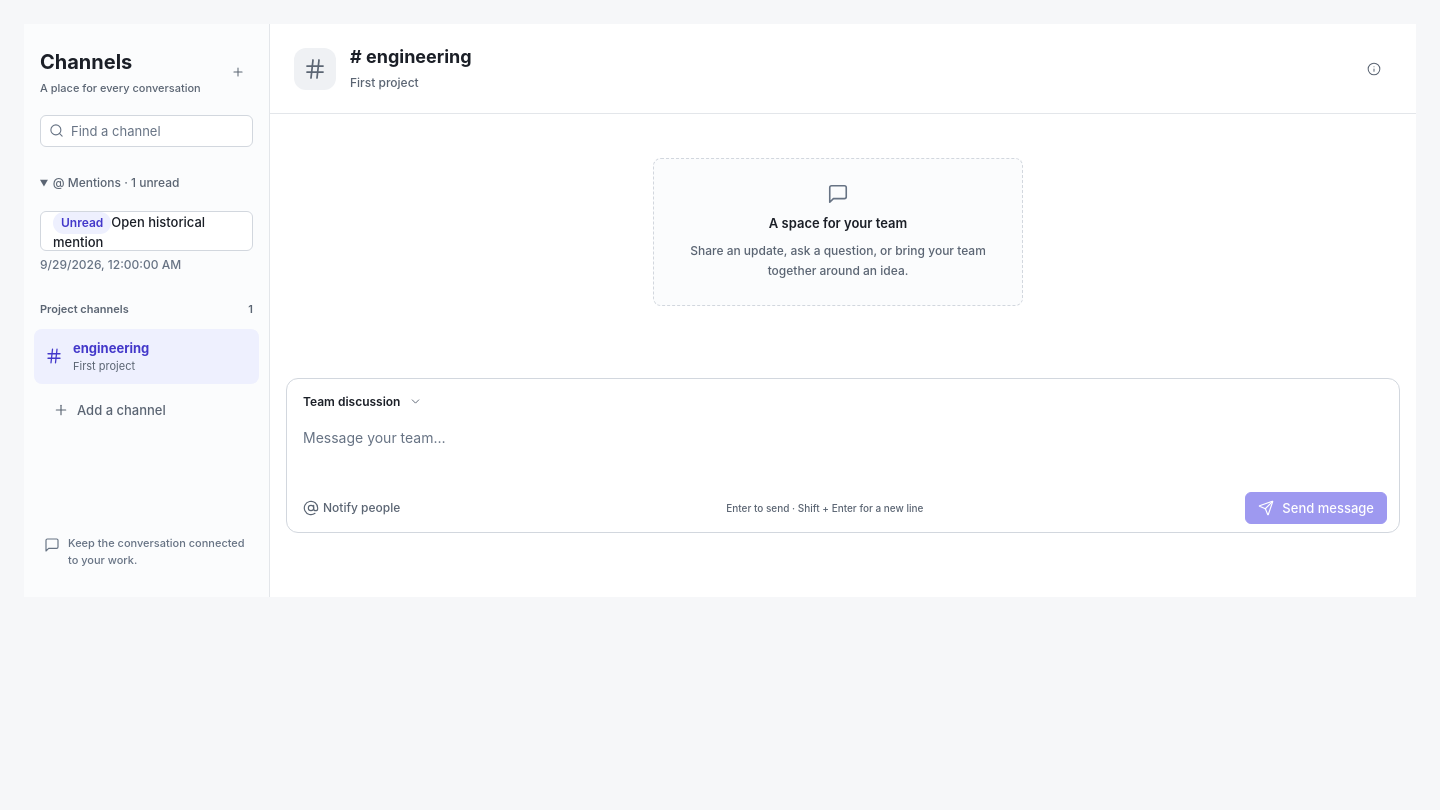
Test: notification history › does not consume a notification when its exact message belongs to another thread
Click the button "Unread Open historical mention".
click(146, 230)  # box [40,210,253,250]
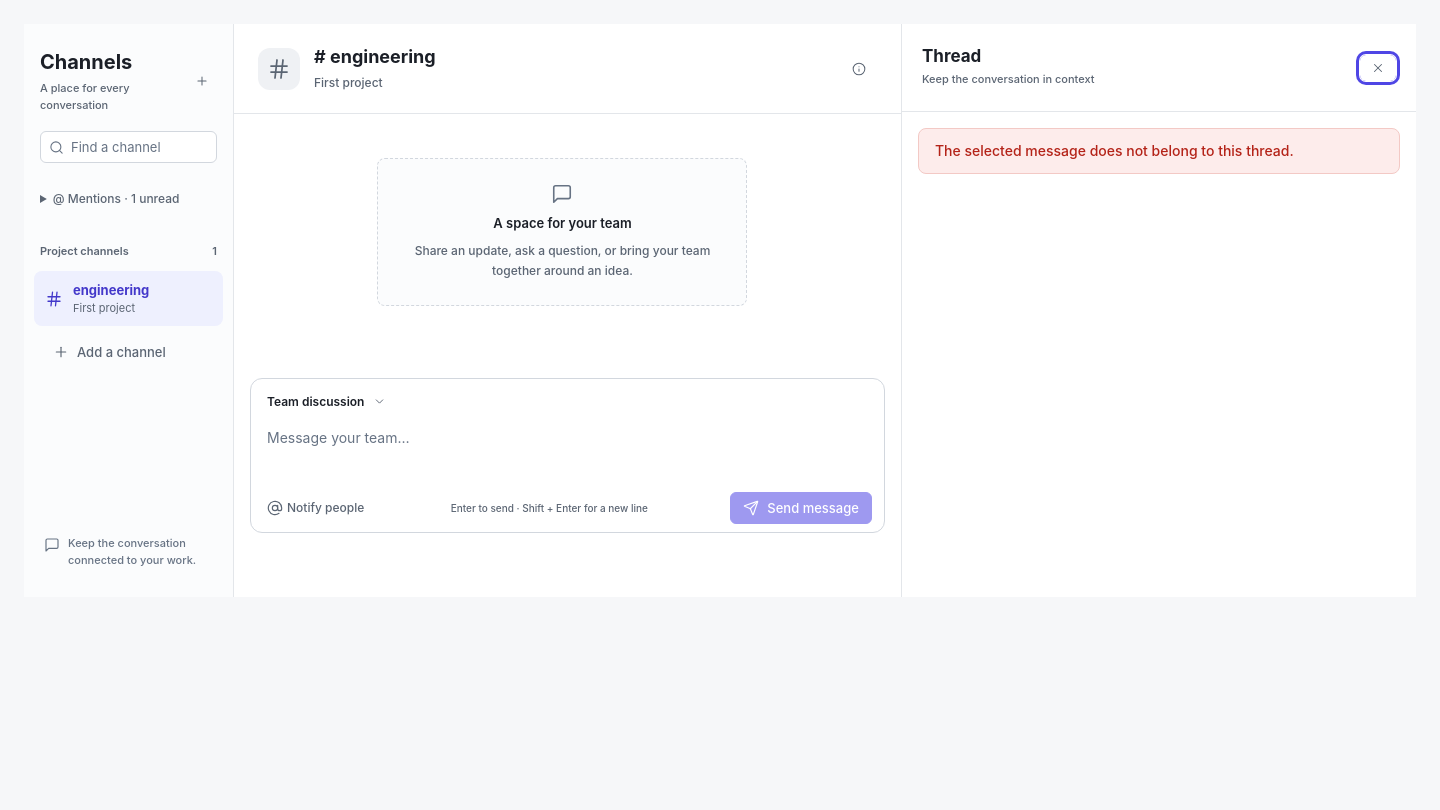
Now the text "The selected message does not belong to this thread." is shown, box [918,128,1400,174]
